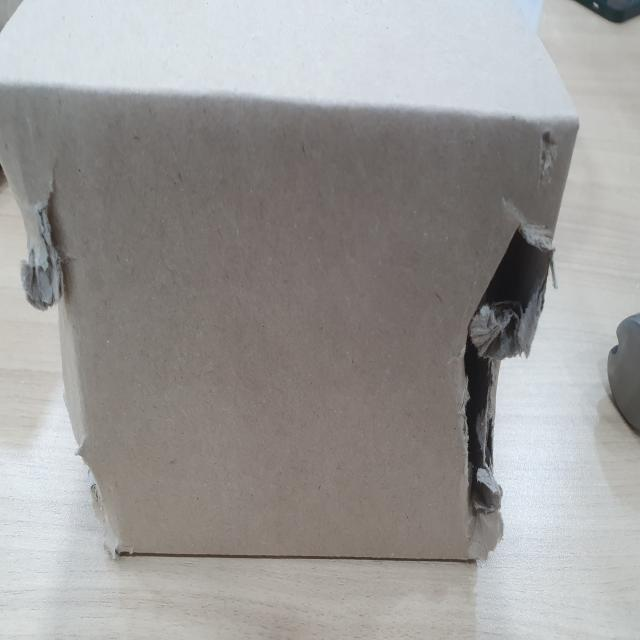hole: (459, 221, 549, 503)
